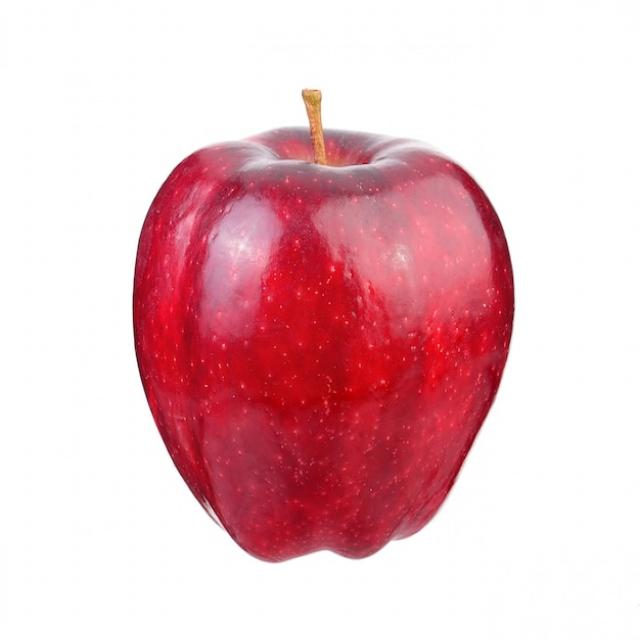Apple: (133, 86, 518, 573)
